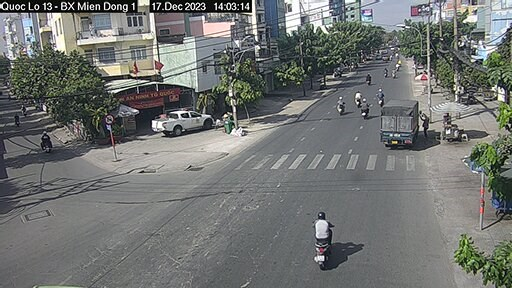car: (150, 105, 213, 135)
motorbike: (310, 207, 336, 272), (37, 130, 54, 156), (332, 92, 348, 117), (351, 87, 365, 108), (375, 88, 386, 108), (362, 100, 372, 120), (365, 67, 372, 84)
truck: (380, 96, 420, 148)
